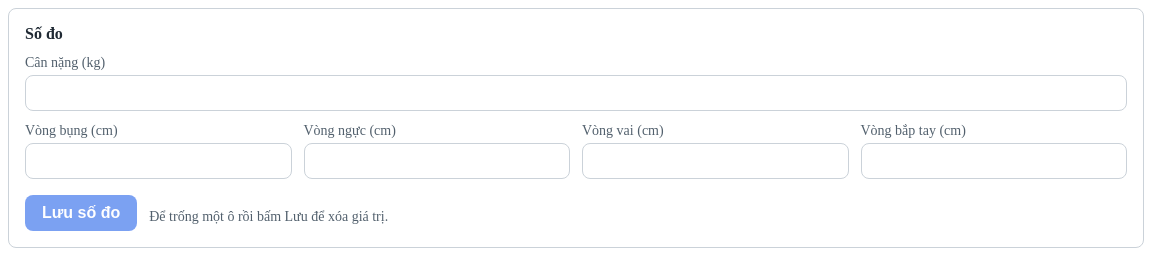
Test case: BodyLogForm — nút Lưu › gõ vào một ô → nút Lưu bật
Step 1. Type "98" into the number field labelled "Vòng ngực (cm)" → [437, 161], box [304,143,570,179]
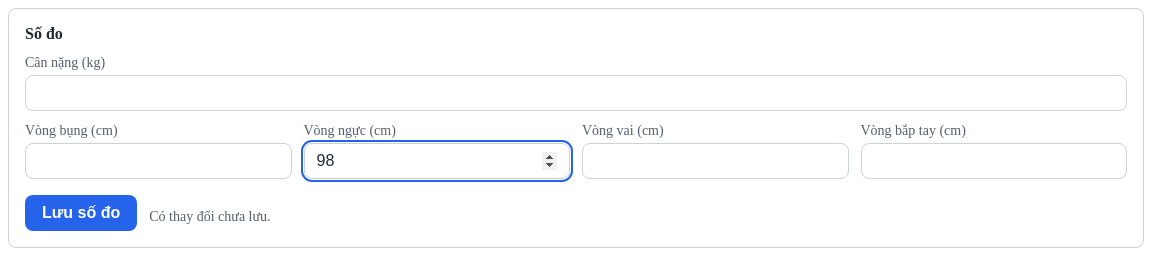
Result: the button "Lưu số đo" is enabled at [25,195,137,231]
